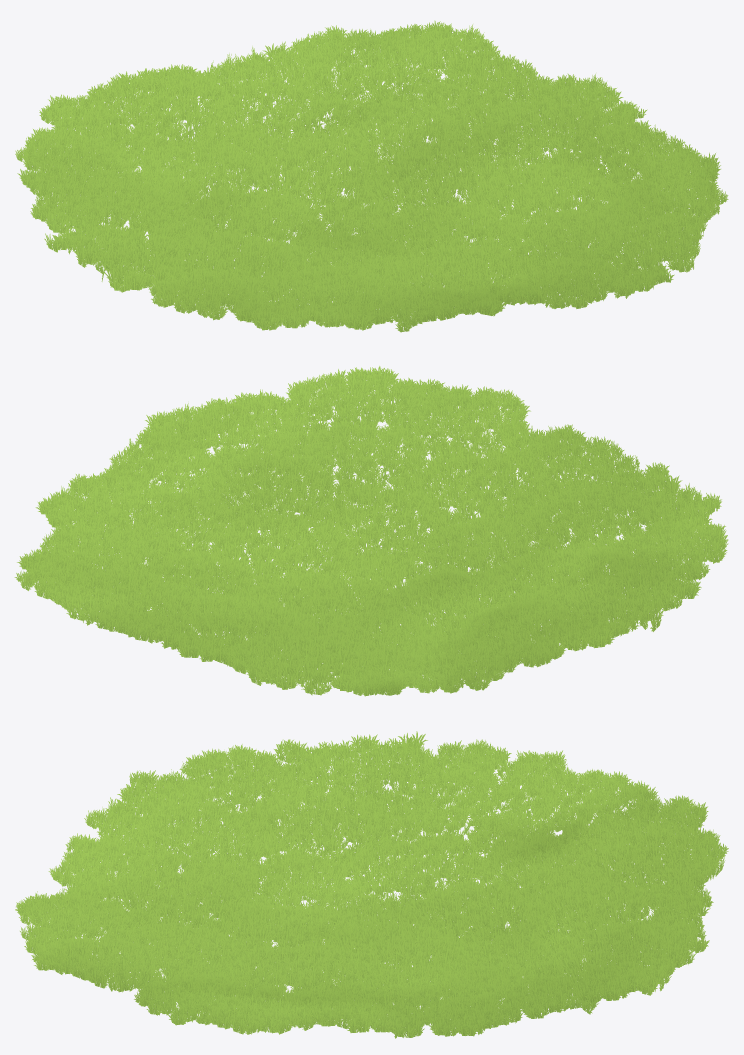
File: SM_Env_Grass_Large_02.glb
3 renders of one model, top to bottom at view 1: azimuth 30°, elevation 25°; view 2: azimuth 150°, elevation 25°; view 3: azimuth 270°, elevation 25°, orthographic.
Visible parts, largest first — view 1: SM_Env_Grass_Large_02; view 2: SM_Env_Grass_Large_02; view 3: SM_Env_Grass_Large_02.
Part boxes in pixels (left/top/right/bottom): SM_Env_Grass_Large_02: left=15, top=20, right=728, bottom=332; SM_Env_Grass_Large_02: left=14, top=366, right=728, bottom=696; SM_Env_Grass_Large_02: left=15, top=731, right=728, bottom=1038.
Size of the model in its own units: 33.1 by 3.37 by 34.29.
Materials: 1 (1 with a texture image).
